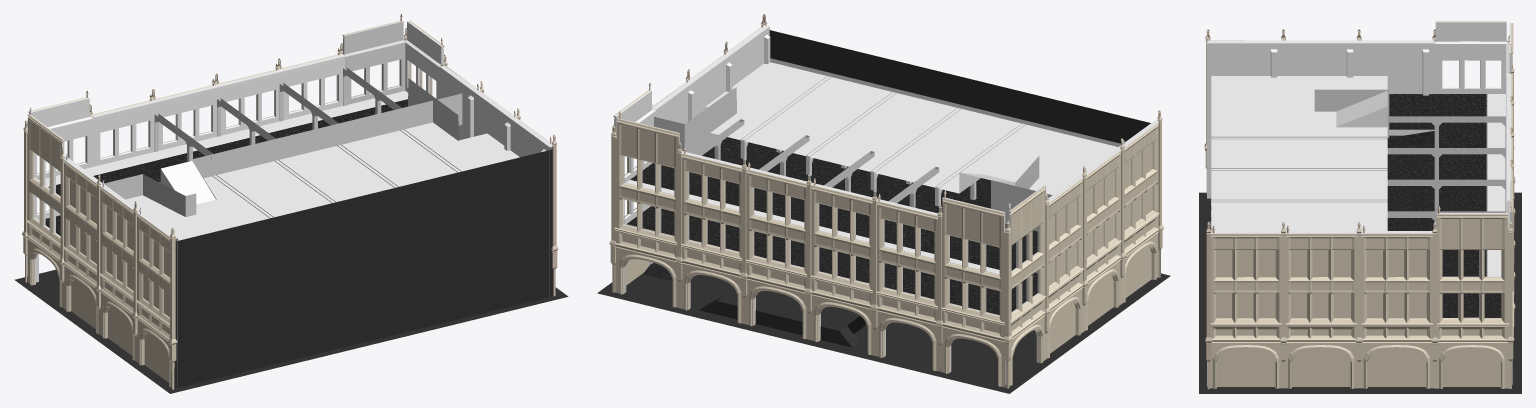
Rendered from sports_castle_colliders_3.glb.
The picture shows the model from 3 angles, left to right: view 1: azimuth 30°, elevation 25°; view 2: azimuth 150°, elevation 25°; view 3: azimuth 270°, elevation 25°; orthographic projection. The views are drawn at different scales.
Visible parts, largest first — view 1: Plane.023, Curve_Curve.002, Sports Castle Front Inner, Plane.011, Plane.024, Curve.001_Curve.003, Plane.012, Plane.025, Plane.015, Sports Castle West Inner, Plane, Plane.005 (+16 smaller); view 2: Curve_Curve.002, Plane, Plane.023, Curve.001_Curve.003, Plane.002, Plane.004, Plane.019, Plane.010, Curve.001_Curve.001, Plane.013, Plane.014, Plane.024 (+30 smaller); view 3: Curve_Curve.002, Curve.001_Curve.003, Plane.026, Plane.006, Plane.027, Plane.018, Sports Castle West Inner.001, Plane, Plane.016, Cube.006, Curve.001_Curve.001, Curve.002_Curve.002 (+14 smaller).
Part boxes in pixels (x1,y1,x2,y2): Plane.023: (171, 149, 553, 388); Curve_Curve.002: (125, 122, 519, 240); Sports Castle Front Inner: (91, 54, 345, 166); Plane.011: (192, 93, 462, 178); Plane.024: (99, 186, 137, 361); Curve.001_Curve.003: (39, 91, 408, 195); Plane.012: (136, 213, 171, 387); Plane.025: (63, 159, 100, 334); Plane.015: (26, 114, 64, 308); Sports Castle West Inner: (439, 65, 552, 296); Plane: (14, 269, 568, 393); Plane.005: (343, 21, 405, 104); Curve_Curve.002: (706, 62, 1117, 194); Plane: (597, 273, 1170, 393); Plane.023: (769, 30, 1160, 277); Curve.001_Curve.003: (625, 151, 1037, 273); Plane.002: (940, 198, 1005, 387); Plane.004: (614, 118, 680, 308); Plane.019: (680, 153, 745, 323); Plane.010: (810, 185, 875, 355); Curve.001_Curve.001: (626, 206, 1037, 323); Plane.013: (875, 201, 940, 371); Plane.014: (745, 169, 810, 339); Plane.024: (1083, 150, 1121, 331); Curve_Curve.002: (1211, 76, 1387, 230); Curve.001_Curve.003: (1387, 94, 1505, 276); Plane.026: (1283, 233, 1358, 388); Plane.006: (1359, 233, 1434, 388); Plane.027: (1210, 233, 1283, 388); Plane.018: (1434, 214, 1509, 388); Sports Castle West Inner.001: (1206, 40, 1434, 198); Plane: (1199, 192, 1521, 393); Plane.016: (1434, 21, 1508, 93); Cube.006: (1314, 89, 1389, 137); Curve.001_Curve.001: (1389, 135, 1501, 317); Curve.002_Curve.002: (1387, 179, 1505, 211).
Size of what is drawn, in the model's own units: 45.5 by 19.36 by 30.85.
28 materials, 2 textured.
